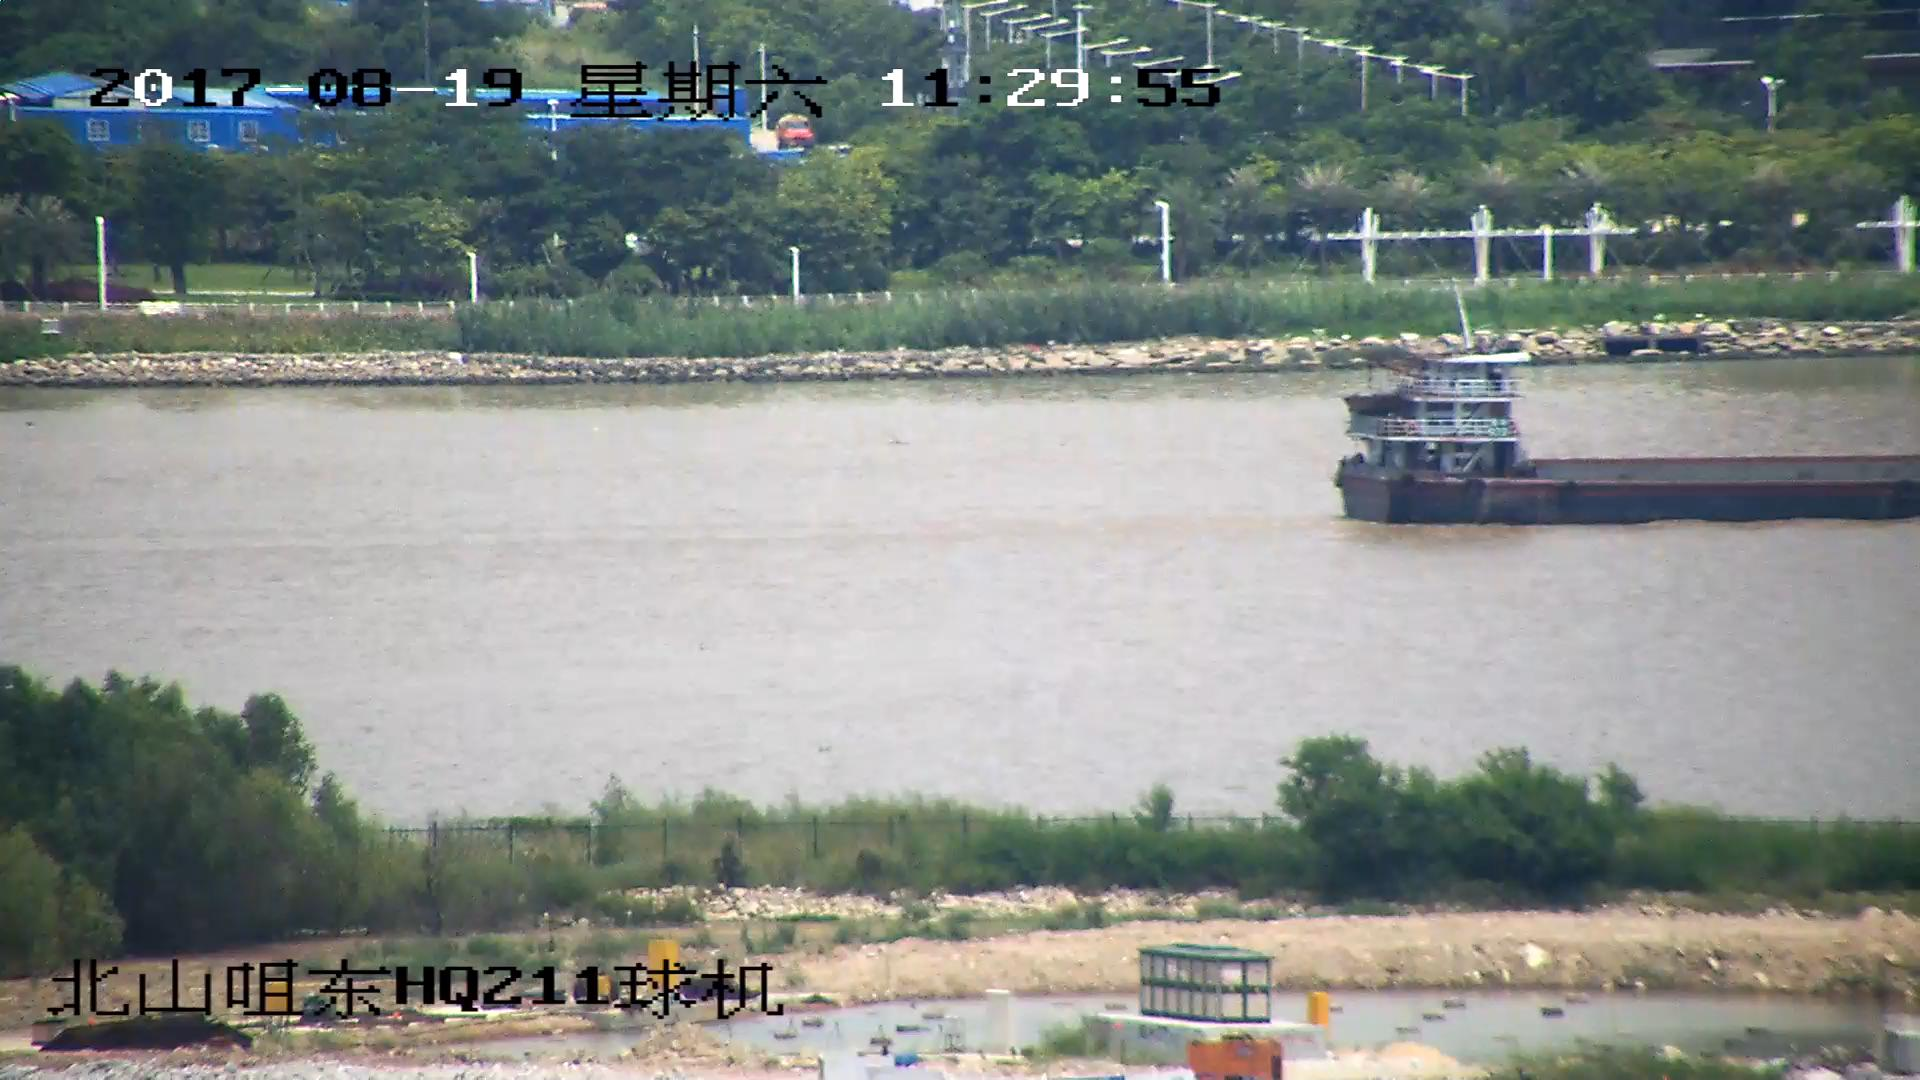general cargo ship: (1345, 351, 1920, 531)
